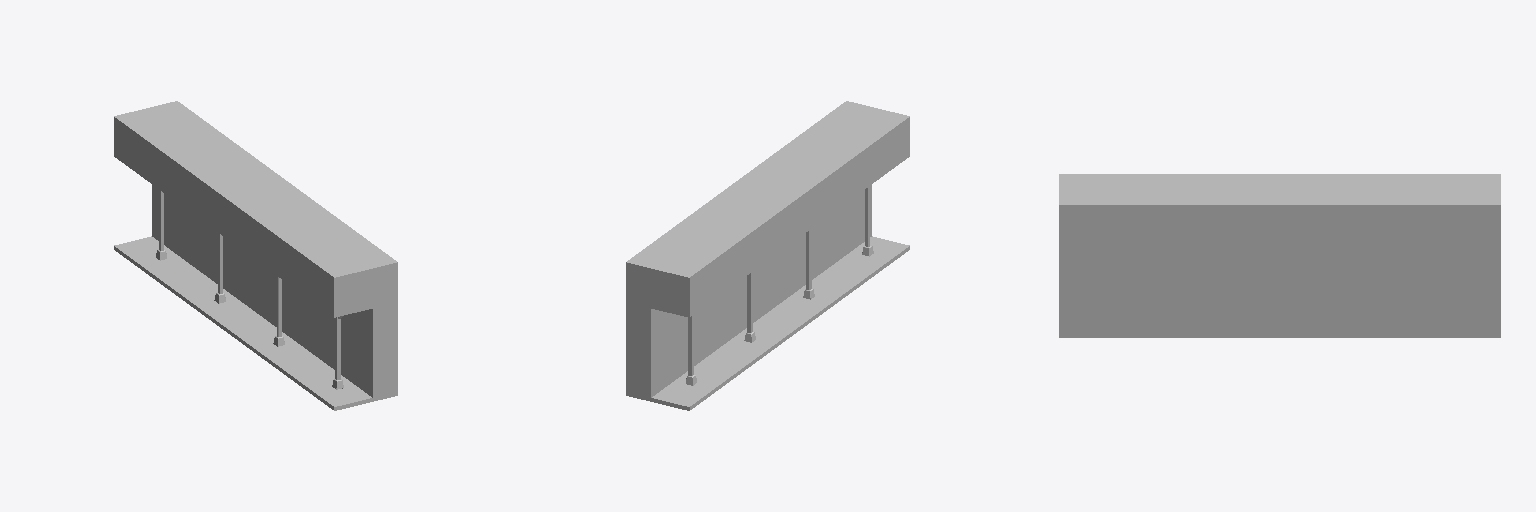
File: PorticoStart_2.obj
3 renders of one model, left to right at view 1: azimuth 30°, elevation 25°; view 2: azimuth 150°, elevation 25°; view 3: azimuth 270°, elevation 25°, orthographic.
Visible parts, largest first — view 1: Edificio; view 2: Edificio; view 3: Edificio.
Part boxes in pixels (bbox=[...]): Edificio: bbox=[114, 101, 397, 410]; Edificio: bbox=[626, 101, 909, 410]; Edificio: bbox=[1059, 174, 1500, 337].
Bounding box in the file's own units: 5 × 10 × 30.